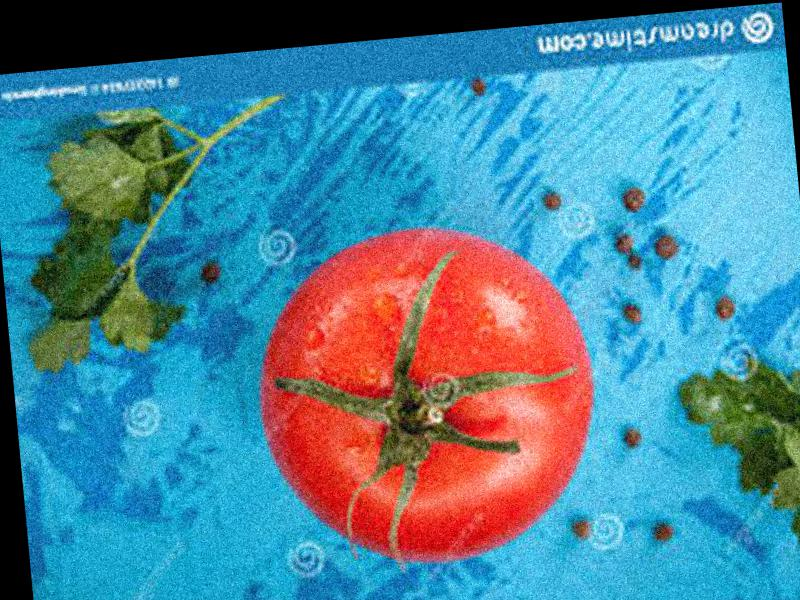Tomato: (245, 214, 606, 575)
